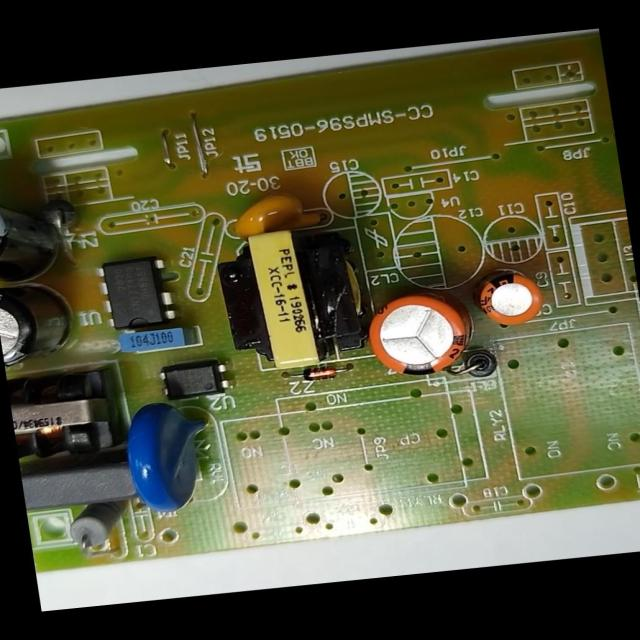Cap1: (359, 286, 479, 382)
Cap2: (475, 268, 549, 329)
Cap3: (0, 277, 86, 370)
Cap4: (0, 184, 69, 289), (64, 501, 134, 552)
MOSFET: (94, 256, 176, 331)
Mov: (118, 398, 224, 520)
Transformer: (207, 222, 371, 372), (6, 362, 134, 466)
